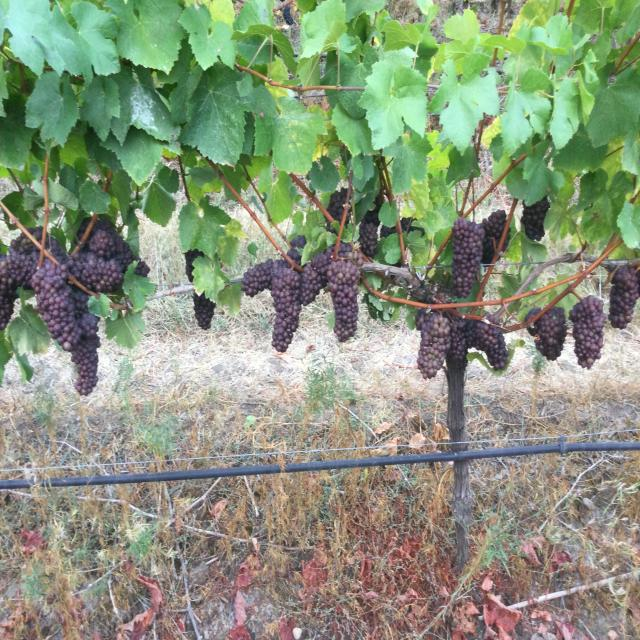grapes: (66, 220, 138, 293), (31, 260, 81, 352), (0, 233, 40, 330), (326, 258, 359, 342), (451, 217, 485, 298), (569, 295, 606, 368), (271, 262, 301, 352), (415, 308, 451, 378), (71, 312, 100, 395), (466, 313, 508, 370), (68, 252, 124, 293), (528, 307, 568, 360), (609, 267, 639, 328), (481, 210, 506, 263), (521, 197, 550, 242), (241, 258, 274, 297), (300, 262, 325, 305), (312, 245, 334, 287), (192, 292, 216, 330), (449, 318, 468, 360), (326, 188, 348, 222), (359, 220, 378, 258), (184, 248, 204, 282), (72, 287, 89, 318), (46, 237, 66, 263), (362, 205, 381, 227), (135, 260, 149, 277), (338, 242, 352, 258), (525, 308, 540, 322), (502, 228, 510, 252), (30, 227, 41, 240)
